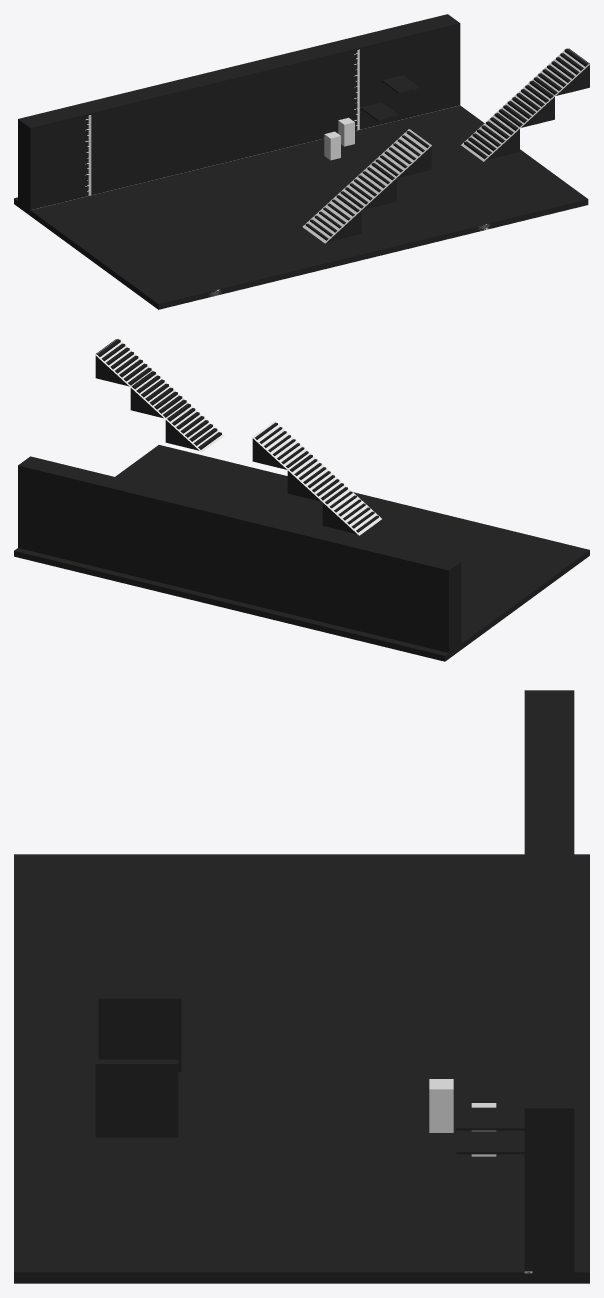
The picture shows the model from 3 angles, top to bottom: view 1: azimuth 30°, elevation 25°; view 2: azimuth 150°, elevation 25°; view 3: azimuth 270°, elevation 25°; orthographic projection. The views are drawn at different scales.
Parts seen in each view (by area): view 1: Cube, guccui, ramp, ramp.003, STAIRS.004, STAIRS.003, STAIRS.005, STAIRS.001, STAIRS.002, STAIRS, guccui.004, guccui.001 (+2 smaller); view 2: guccui, Cube, ramp, ramp.003, STAIRS.004, STAIRS.003, STAIRS.005, STAIRS.001, STAIRS, STAIRS.002; view 3: Cube, guccui, STAIRS.002, STAIRS.003, guccui.001, guccui.003, guccui.004, STAIRS.005, STAIRS.001, STAIRS.004.
Part boxes in pixels (x1,y1,x2,y2): Cube: (14,105,588,309); guccui: (18,14,460,212); ramp: (302,129,431,243); ramp.003: (461,48,589,161); STAIRS.004: (499,80,554,127); STAIRS.003: (534,48,589,95); STAIRS.005: (464,113,519,159); STAIRS.001: (340,163,396,209); STAIRS.002: (375,131,431,177); STAIRS: (305,195,361,242); guccui.004: (324,131,340,160); guccui.001: (360,102,398,121); guccui: (18,456,461,652); Cube: (14,445,589,661); ramp: (252,421,381,535); ramp.003: (95,338,224,452); STAIRS.004: (130,371,186,418); STAIRS.003: (95,339,151,386); STAIRS.005: (165,403,221,450); STAIRS.001: (287,454,343,501); STAIRS: (322,487,378,533); STAIRS.002: (252,422,308,469); Cube: (14,854,589,1283); guccui: (524,690,574,1276); STAIRS.002: (98,994,181,1046); STAIRS.003: (95,1059,178,1111); guccui.001: (456,1131,524,1154); guccui.003: (456,1107,524,1130); guccui.004: (429,1079,453,1132); STAIRS.005: (95,1124,178,1137); STAIRS.001: (98,1046,181,1059); STAIRS.004: (95,1112,178,1124).
Size of the model in its own units: 42.59 by 10.91 by 23.59.
12 materials, 10 textured.
